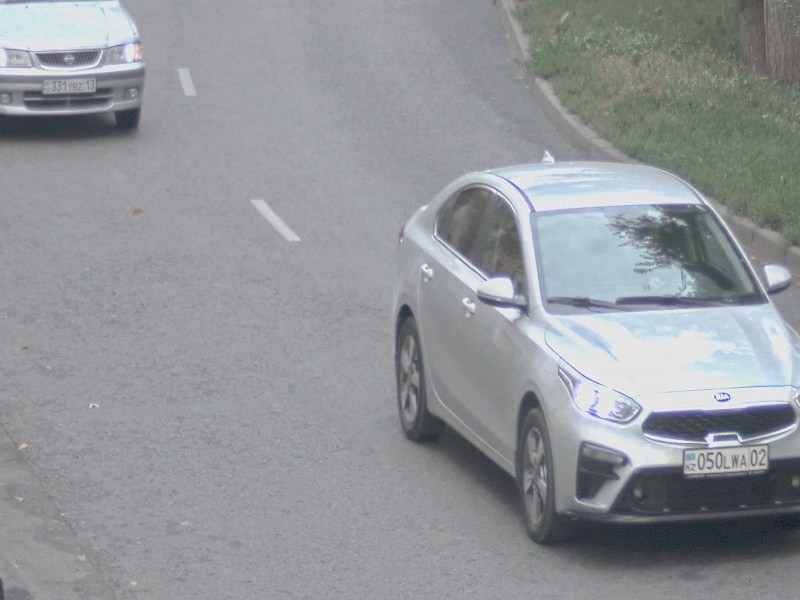plate: (682, 442, 770, 477), (42, 76, 98, 96)
